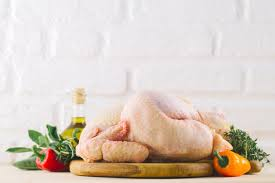Chicken: (121, 90, 213, 160)
